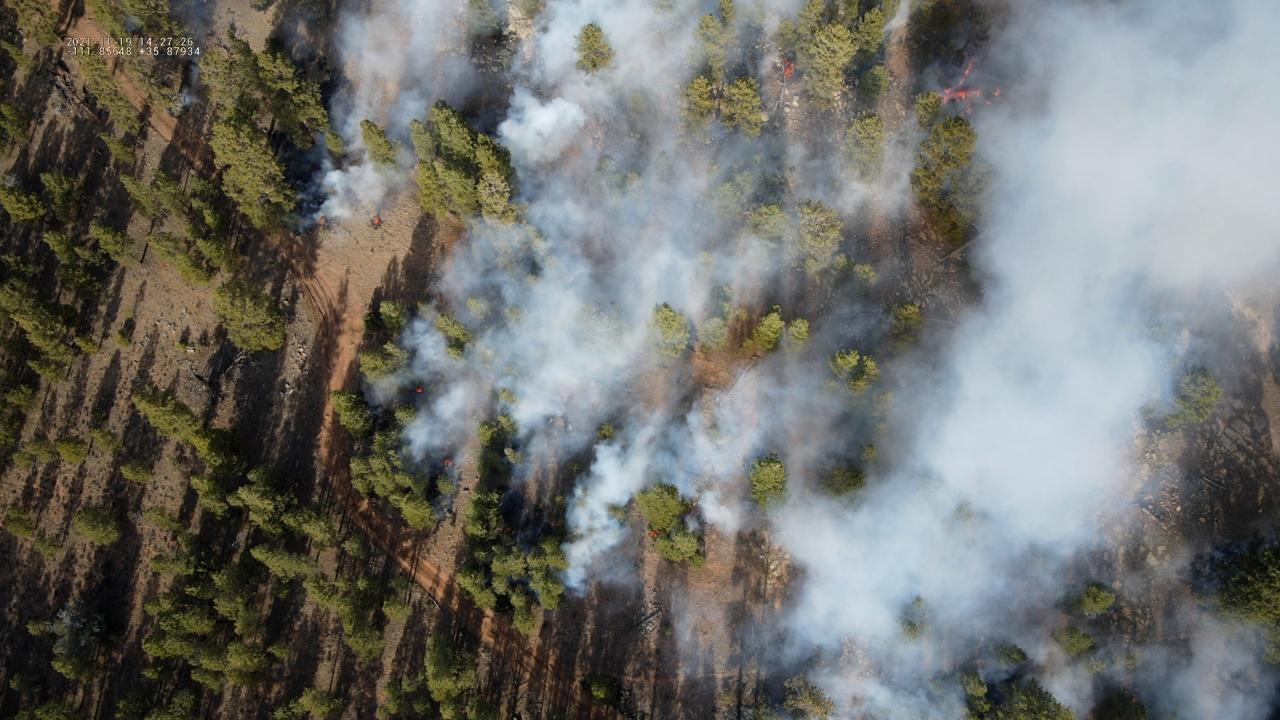fire: (942, 87, 983, 104), (783, 58, 796, 78), (964, 60, 976, 75), (316, 216, 328, 225), (958, 76, 967, 86), (373, 216, 381, 226), (443, 459, 453, 467), (648, 530, 658, 537), (416, 385, 424, 393), (965, 107, 973, 115), (993, 88, 1000, 97), (986, 101, 992, 105)
smoke: (280, 0, 1280, 720), (164, 0, 218, 109), (122, 16, 142, 35)
